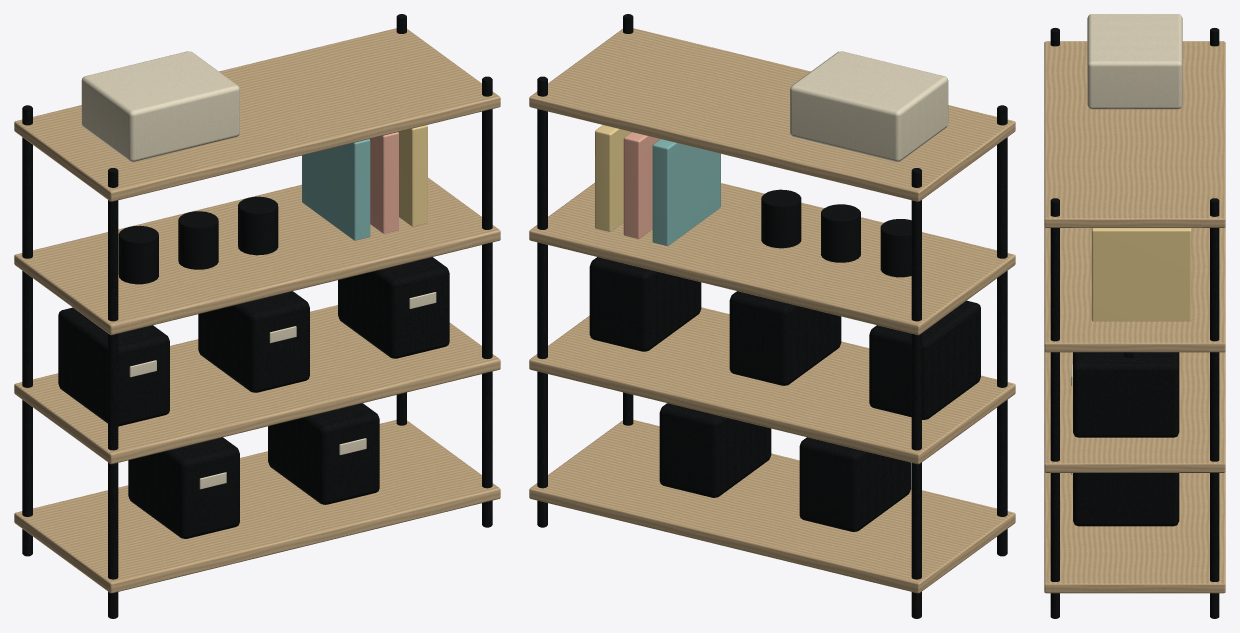
Rendered from photo-equipment-shelf-v1.glb.
The picture shows the model from 3 angles, left to right: view 1: azimuth 30°, elevation 25°; view 2: azimuth 150°, elevation 25°; view 3: azimuth 270°, elevation 25°; orthographic projection. The views are drawn at different scales.
Visible parts, largest first — view 1: Equipment rack upright; view 2: Equipment rack upright; view 3: Equipment rack upright.
Boxes of the visible parts, <box> form: Equipment rack upright: <box>14,14,500,618</box>; Equipment rack upright: <box>529,14,1015,618</box>; Equipment rack upright: <box>1044,14,1225,618</box>.
Size of the model in its own units: 1.9 by 2.24 by 0.82.
6 materials, 3 textured.
